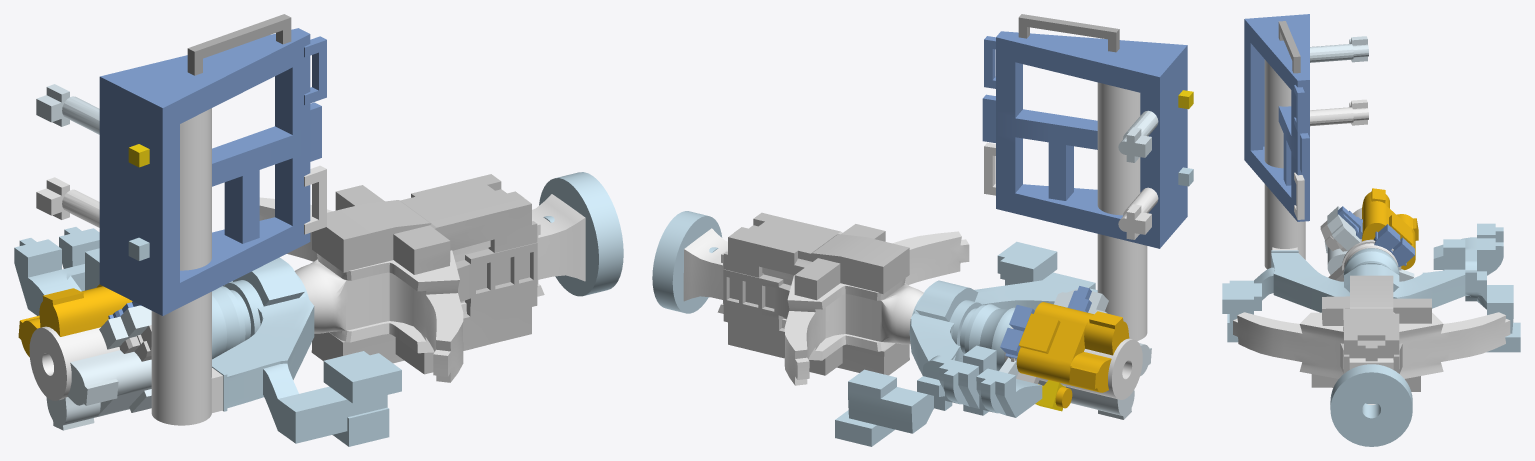
File: dextre_body.gltf
3 renders of one model, left to right at view 1: azimuth 30°, elevation 25°; view 2: azimuth 150°, elevation 25°; view 3: azimuth 270°, elevation 25°, orthographic. The views are drawn at different scales.
Visible parts, largest first — view 1: Part 48, Part 30, Part 23, Part 49, Part 33, Part 42, Surface 27, Part 35, Part 41, Part 28, Part 2, Part 1 (+4 smaller); view 2: Part 48, Part 30, Part 23, Part 49, Part 33, Part 35, Surface 27, Part 41, Part 28, Part 42, Part 1, Part 2 (+4 smaller); view 3: Part 30, Part 49, Part 48, Part 23, Surface 27, Part 33, Part 35, Part 2, Part 1, Part 40, Part 34, Part 28 (+6 smaller).
Part boxes in pixels (box(x1,y1,x2,y2)): Part 48: box(99, 28, 321, 315); Part 30: box(14, 227, 401, 446); Part 23: box(311, 174, 537, 374); Part 49: box(259, 194, 585, 382); Part 33: box(151, 108, 223, 425); Part 42: box(46, 350, 151, 430); Surface 27: box(539, 172, 623, 296); Part 35: box(18, 284, 132, 356); Part 41: box(29, 326, 119, 400); Part 28: box(187, 14, 291, 75); Part 2: box(36, 84, 99, 134); Part 1: box(36, 177, 99, 227); Part 48: box(982, 31, 1187, 248); Part 30: box(835, 241, 1097, 446); Part 23: box(723, 212, 909, 375); Part 49: box(683, 228, 969, 385); Part 33: box(1097, 82, 1147, 340); Part 35: box(1016, 302, 1129, 392); Surface 27: box(652, 211, 722, 313); Part 41: box(1004, 327, 1142, 399); Part 28: box(1018, 14, 1119, 52); Part 42: box(1038, 343, 1151, 419); Part 1: box(1118, 187, 1158, 239); Part 2: box(1118, 110, 1158, 162); Part 30: box(1222, 223, 1520, 352); Part 49: box(1233, 312, 1510, 404); Part 48: box(1244, 14, 1309, 221); Part 23: box(1311, 275, 1431, 391); Surface 27: box(1330, 364, 1412, 446); Part 33: box(1264, 59, 1305, 269); Part 35: box(1362, 188, 1418, 269); Part 2: box(1310, 36, 1368, 62); Part 1: box(1310, 99, 1368, 126); Part 40: box(1374, 224, 1414, 266); Part 34: box(1327, 206, 1360, 250); Part 28: box(1278, 21, 1300, 73).
Size of the model in its own units: 35.92 by 25.13 by 24.3.
